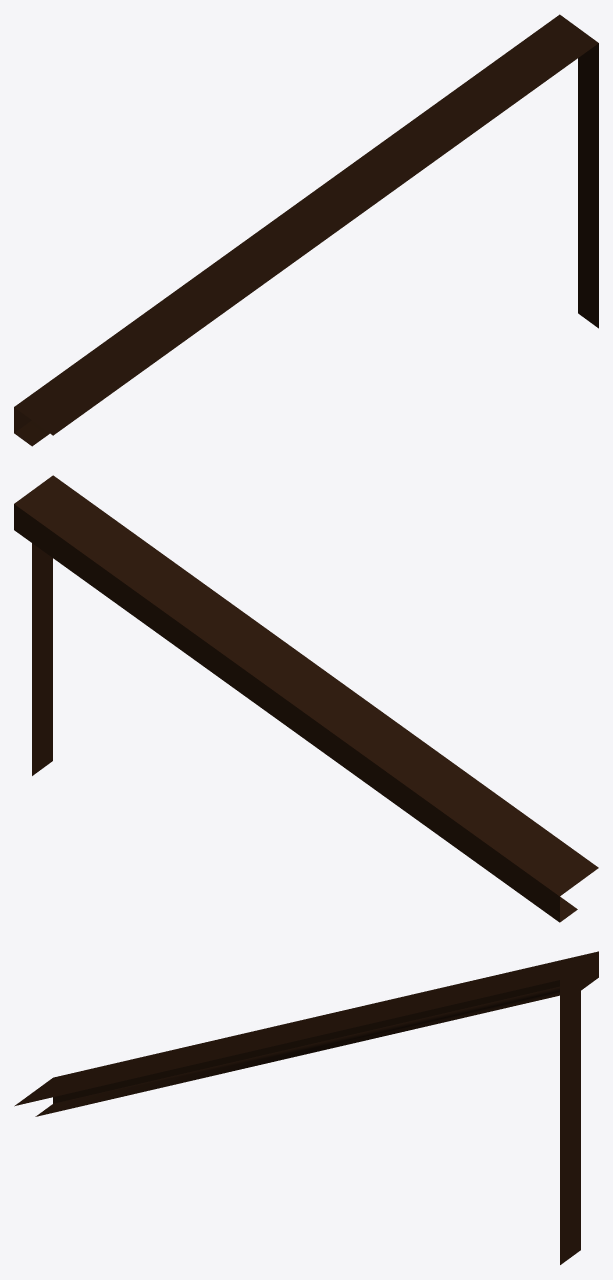
Rendered from Roof_Side_01B.fbx.
3 renders of one model, top to bottom at view 1: azimuth 30°, elevation 25°; view 2: azimuth 150°, elevation 25°; view 3: azimuth 330°, elevation 25°, orthographic.
Parts seen in each view (by area): view 1: Roof_Side_01B; view 2: Roof_Side_01B; view 3: Roof_Side_01B.
Boxes of the visible parts, left/top/right/bottom form: Roof_Side_01B: left=14, top=14, right=598, bottom=446; Roof_Side_01B: left=14, top=475, right=598, bottom=922; Roof_Side_01B: left=14, top=951, right=598, bottom=1264.
Size of the model in its own units: 300 by 150 by 37.28.
